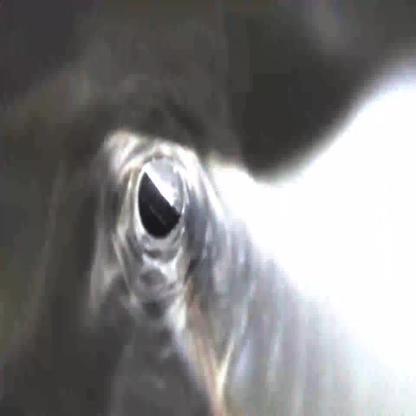Crack: (92, 123, 242, 330)
